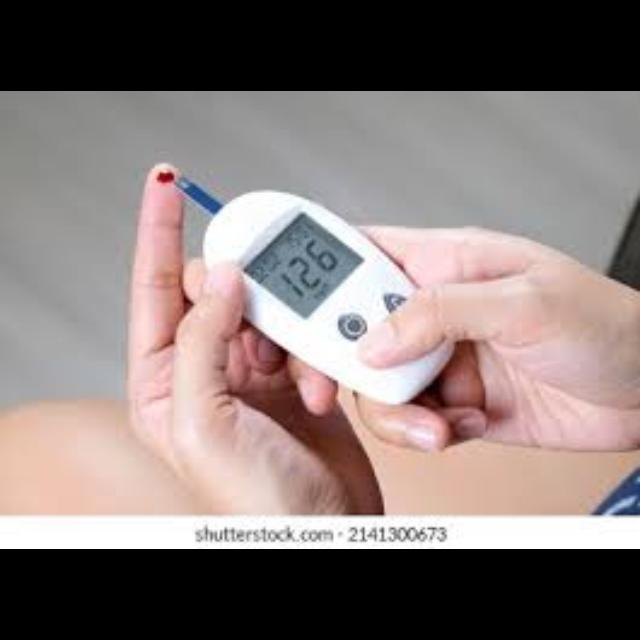Glucose-Meter: (178, 177, 454, 404)
